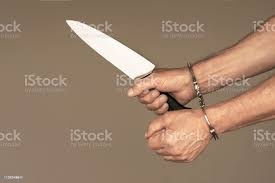knife: (65, 19, 191, 110)
